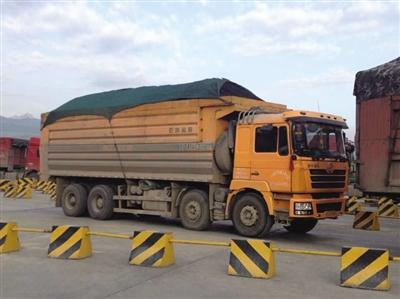chaozhai: (37, 81, 355, 242)
